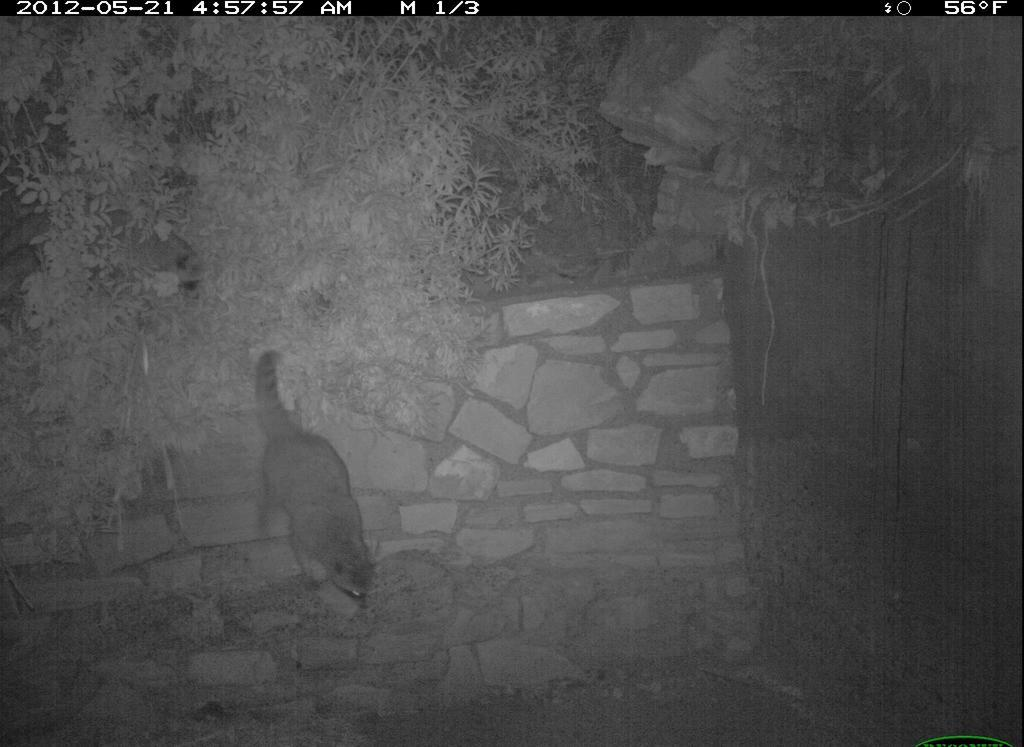raccoon: (241, 345, 382, 628)
